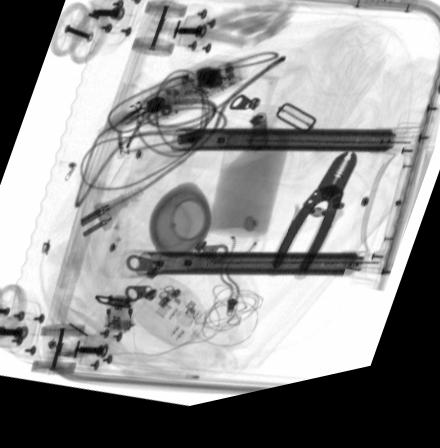Pliers: (271, 165, 358, 292)
